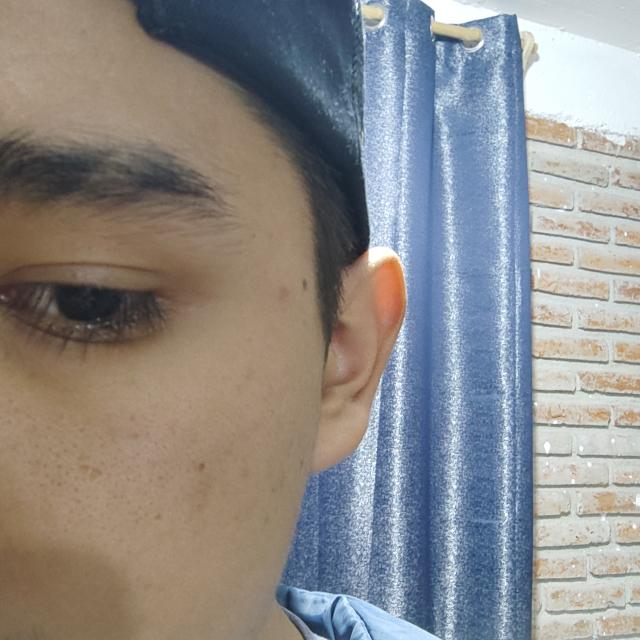ear: (305, 248, 406, 472)
